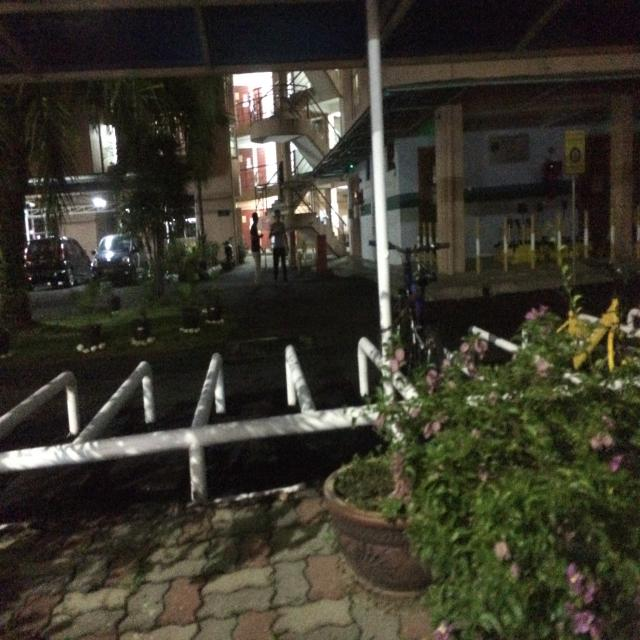Bicycle: (385, 232, 445, 398)
car: (26, 220, 80, 299), (77, 229, 145, 282)
